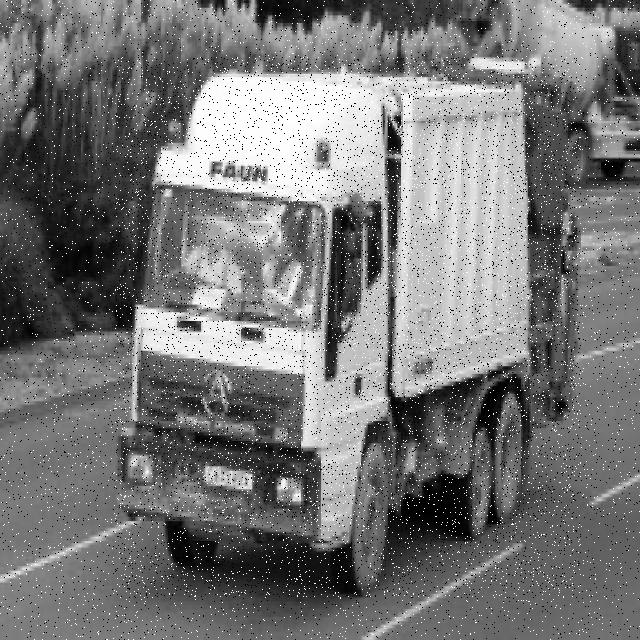Garbage Truck: (115, 57, 581, 598)
